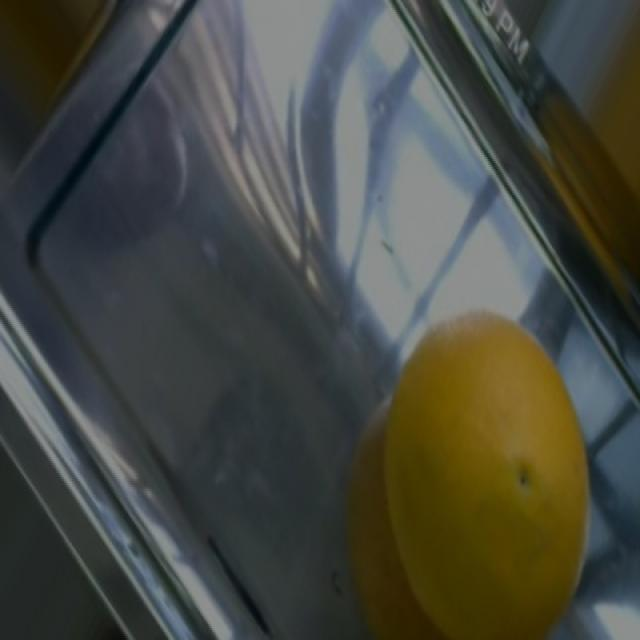Fruit: (325, 286, 604, 636)
